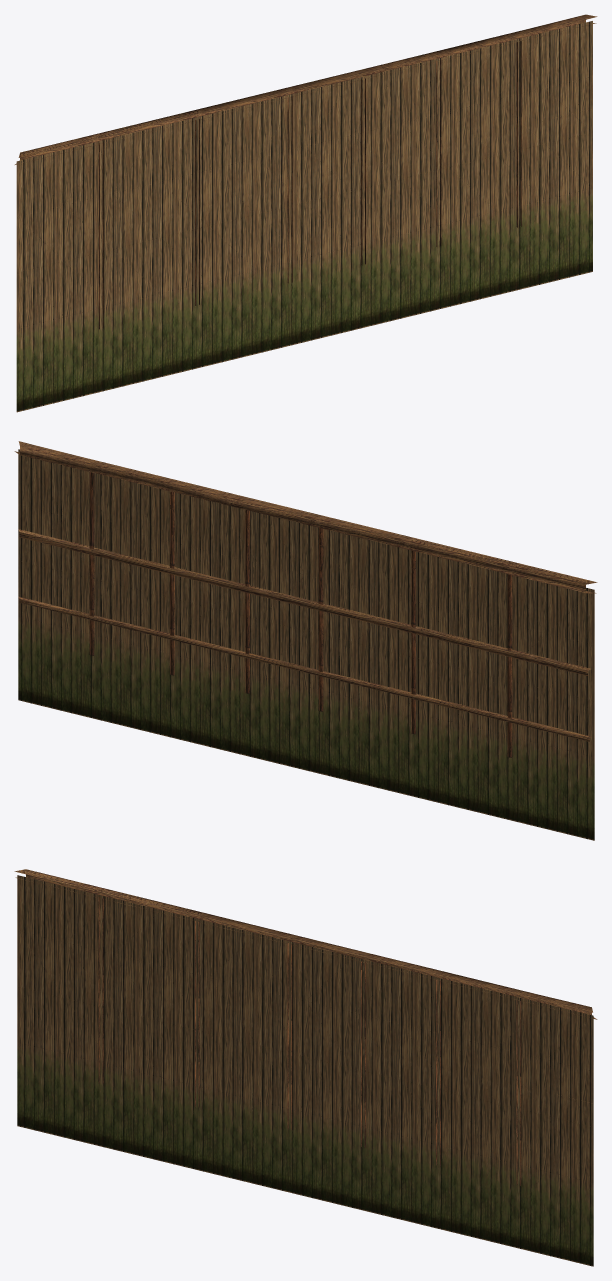
The model's file is LAKETOWN_WAREHOUSE2_PS_WH2_PLATWALL373645__GX.fbx.
3 views of the same model, one above another, from view 1: azimuth 30°, elevation 25°; view 2: azimuth 150°, elevation 25°; view 3: azimuth 330°, elevation 25° (orthographic).
Visible parts, largest first — view 1: LAKETOWN_WAREHOUSE2_PS_WH2_PLATWALL373645__GX; view 2: LAKETOWN_WAREHOUSE2_PS_WH2_PLATWALL373645__GX; view 3: LAKETOWN_WAREHOUSE2_PS_WH2_PLATWALL373645__GX.
Boxes of the visible parts, <box> form: LAKETOWN_WAREHOUSE2_PS_WH2_PLATWALL373645__GX: <box>15,14,597,412</box>; LAKETOWN_WAREHOUSE2_PS_WH2_PLATWALL373645__GX: <box>14,441,597,840</box>; LAKETOWN_WAREHOUSE2_PS_WH2_PLATWALL373645__GX: <box>14,869,597,1266</box>.
Size of the model in its own units: 364459 by 153127 by 5821.
5 materials, 5 textured.
